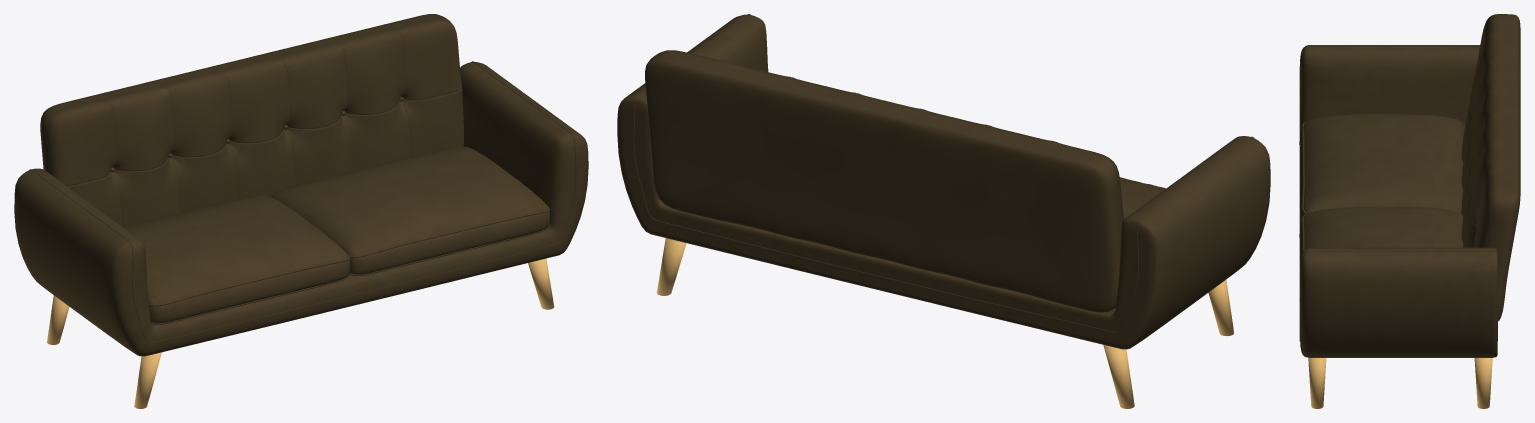
Rendered from sofa.glb.
3 views of the same model, side by side, from view 1: azimuth 30°, elevation 25°; view 2: azimuth 150°, elevation 25°; view 3: azimuth 270°, elevation 25° (orthographic). The views are drawn at different scales.
Parts seen in each view (by area): view 1: Plane004, Plane003, w002, w, Shape005, Shape004, Shape003, Cylinder001, Cylinder002, Cylinder003; view 2: Plane004, Plane003, Shape005, Cylinder003, Cylinder004, w, Cylinder001; view 3: Plane003, w, Plane004, w002, Shape005, Cylinder002, Cylinder004, Shape003.
Part boxes in pixels (box(x1,y1,x2,y2)): Plane004: box(40, 14, 463, 227); Plane003: box(14, 62, 588, 356); w002: box(272, 146, 549, 274); w: box(123, 195, 350, 323); Shape005: box(29, 61, 576, 343); Shape004: box(347, 204, 549, 275); Shape003: box(149, 256, 350, 324); Cylinder001: box(134, 352, 161, 408); Cylinder002: box(528, 258, 554, 309); Cylinder003: box(47, 295, 69, 344); Plane004: box(645, 50, 1124, 312); Plane003: box(617, 14, 1270, 349); Shape005: box(633, 14, 1253, 333); Cylinder003: box(1103, 345, 1134, 408); Cylinder004: box(657, 238, 686, 295); w: box(1119, 177, 1165, 219); Cylinder001: box(1208, 280, 1233, 335); Plane003: box(1300, 45, 1497, 357); w: box(1299, 114, 1464, 222); Plane004: box(1461, 14, 1520, 321); w002: box(1299, 206, 1463, 271); Shape005: box(1299, 45, 1498, 340); Cylinder002: box(1308, 357, 1326, 408); Cylinder004: box(1474, 358, 1492, 408); Shape003: box(1301, 122, 1465, 214).
Bounding box in the file's own units: 0.0672 × 0.0296 × 0.0281.
17 materials, 17 textured.
